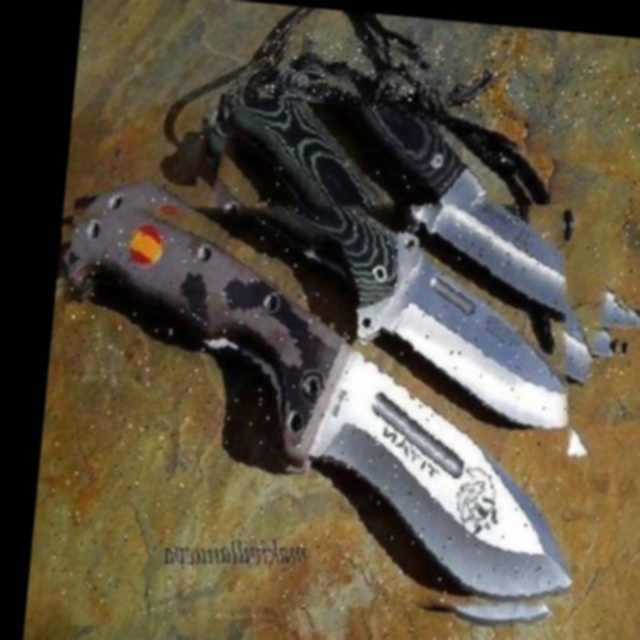Sharp-Object: (37, 176, 599, 640), (172, 92, 631, 483), (236, 28, 640, 374)
